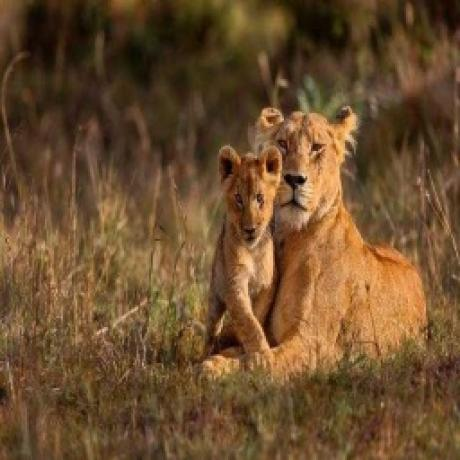Lion: (256, 102, 432, 380), (207, 145, 283, 374)
